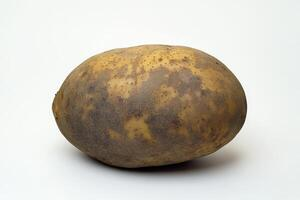potato rotten: (46, 43, 271, 177)
